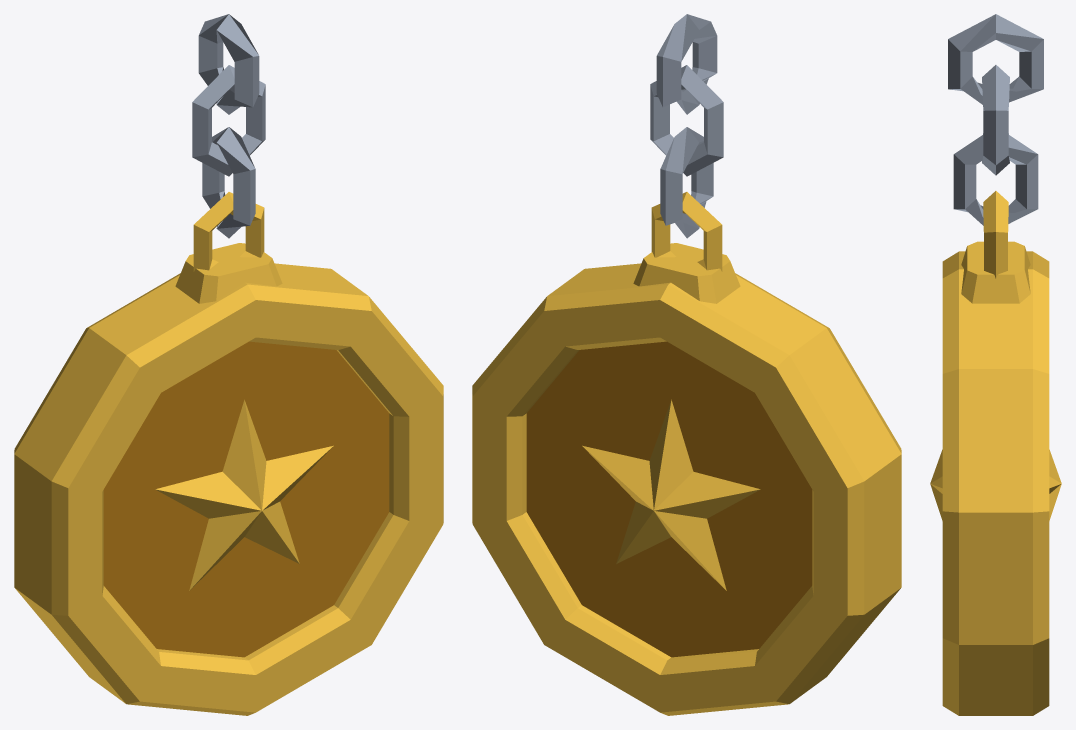
Rendered from ArcadeToken.fbx.
3 renders of one model, left to right at view 1: azimuth 30°, elevation 25°; view 2: azimuth 150°, elevation 25°; view 3: azimuth 270°, elevation 25°, orthographic.
Parts seen in each view (by area): view 1: Body_Token_Gold, Body_Token_Recess, Chain; view 2: Body_Token_Gold, Body_Token_Recess, Chain; view 3: Body_Token_Gold, Chain.
Part boxes in pixels (bbox=[...]): Body_Token_Gold: bbox=[14, 192, 443, 715]; Body_Token_Recess: bbox=[103, 341, 389, 657]; Chain: bbox=[192, 14, 265, 238]; Body_Token_Gold: bbox=[472, 192, 901, 715]; Body_Token_Recess: bbox=[526, 341, 812, 657]; Chain: bbox=[650, 14, 723, 238]; Body_Token_Gold: bbox=[930, 191, 1061, 715]; Chain: bbox=[948, 14, 1043, 225].
Size of the model in its own units: 0.2187 by 0.3669 by 0.064.
